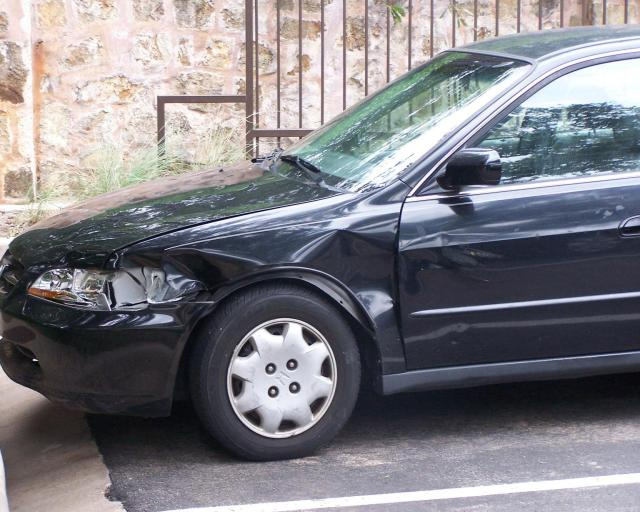dent: (94, 247, 263, 324), (291, 229, 399, 334)
